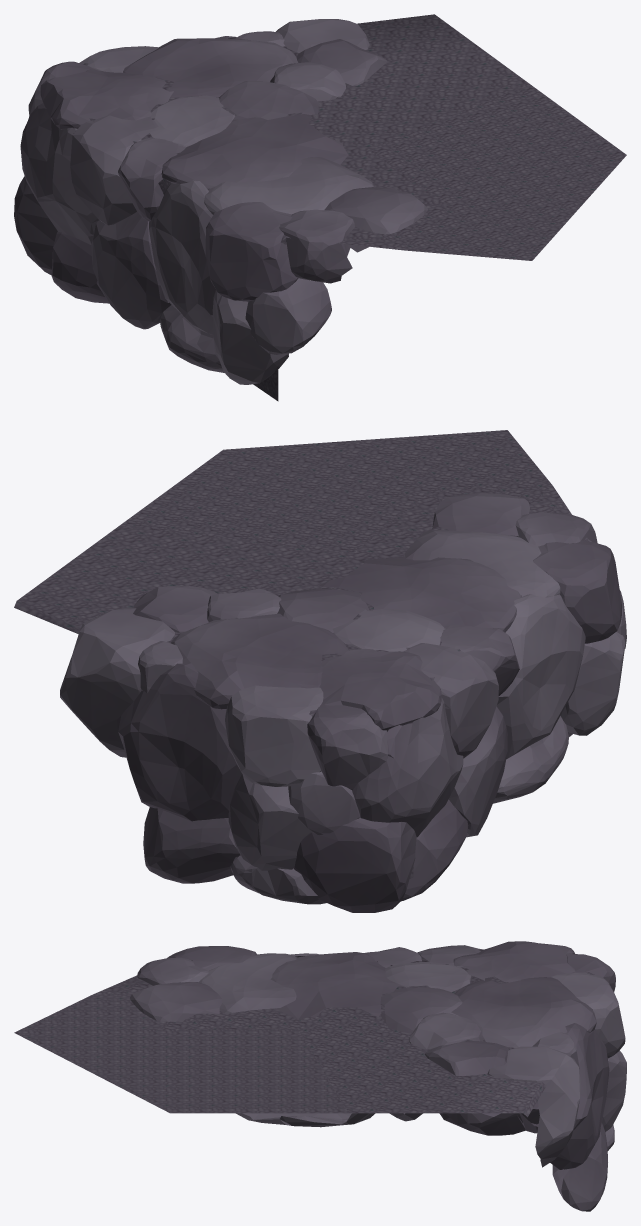
Rendered from ProloguePath1_LedgesRocks_LEFT.fbx.
The picture shows the model from 3 angles, top to bottom: view 1: azimuth 30°, elevation 25°; view 2: azimuth 150°, elevation 25°; view 3: azimuth 270°, elevation 25°; orthographic projection. The views are drawn at different scales.
Parts seen in each view (by area): view 1: Ledge_Left; view 2: Ledge_Left; view 3: Ledge_Left.
Part boxes in pixels (x1,y1,x2,y2): Ledge_Left: [14, 14, 626, 401]; Ledge_Left: [14, 430, 626, 912]; Ledge_Left: [14, 941, 626, 1211].
Size of the model in its own units: 1814 by 917 by 2668.
